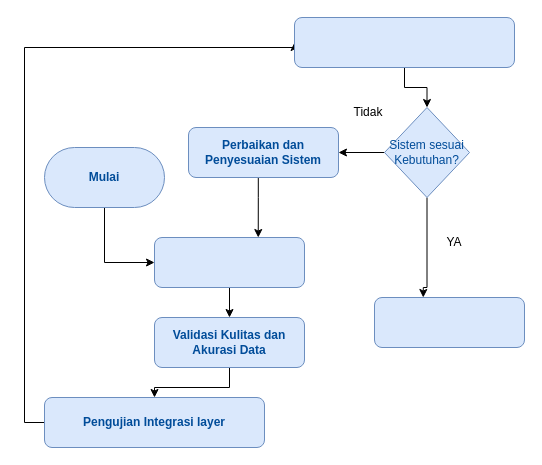
Image size: 542x465. Some labels were removed from this diagram. The shapes that lost their labels are listed below. From the top down, each one's box as (x1, y1, x2, y2) in pixels, then its label:
(294, 16, 514, 68): Pengujian Peforma dan Hak Akses
(154, 236, 304, 288): Pengujian Fungsionalitas
(374, 296, 524, 348): Sistem Terverifikasi
